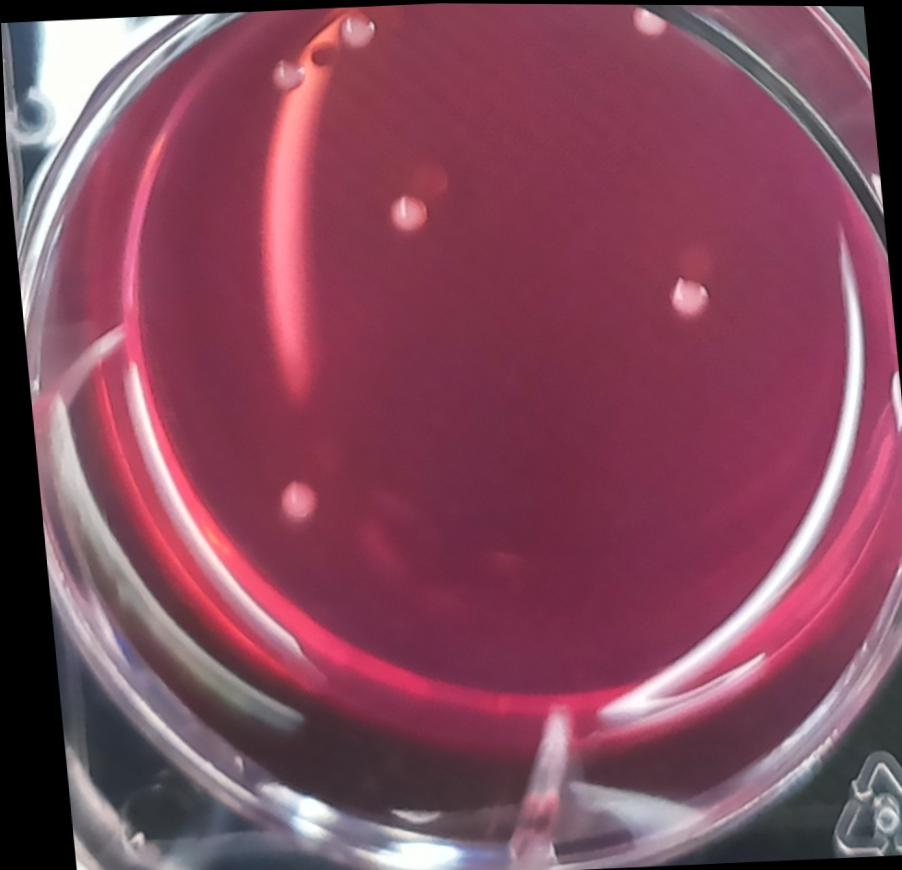bcereus: (265, 469, 325, 526), (657, 269, 717, 323), (379, 183, 436, 238), (328, 5, 385, 52), (262, 50, 313, 97), (624, 4, 671, 41)
